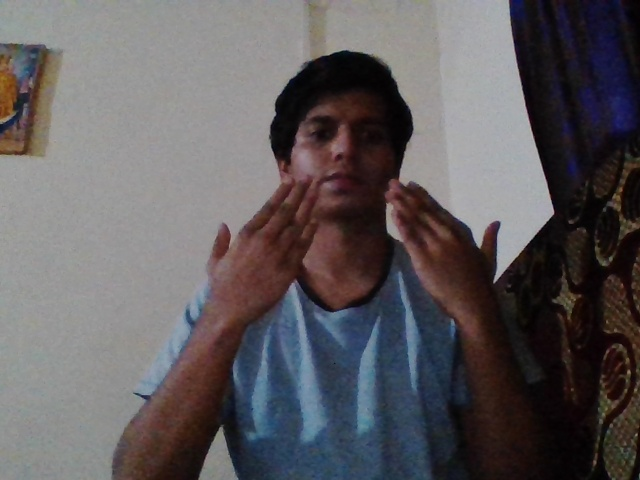Thank You: (178, 172, 509, 319)
